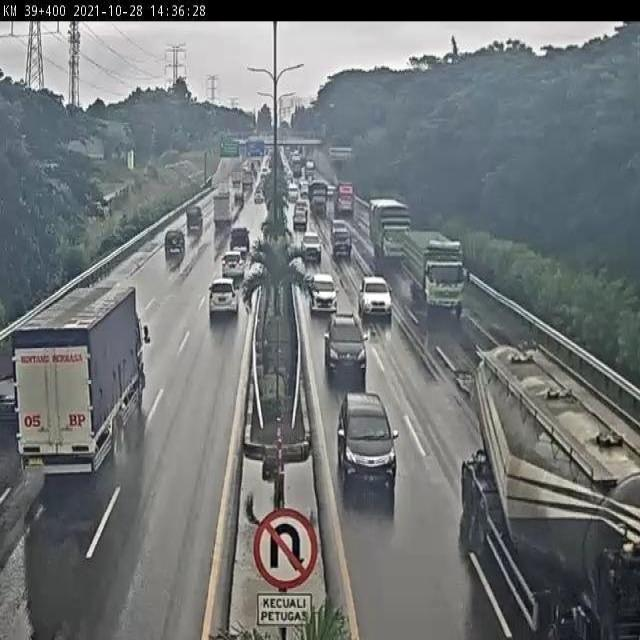Car: (336, 394, 398, 493), (323, 311, 368, 386), (358, 275, 393, 322), (307, 271, 339, 314), (208, 276, 240, 318), (221, 250, 246, 284), (332, 221, 352, 259), (301, 231, 322, 263), (229, 225, 251, 255), (165, 228, 185, 258), (186, 205, 203, 234), (293, 202, 308, 231), (286, 180, 299, 202), (300, 179, 309, 198), (306, 160, 316, 177), (327, 184, 336, 202), (254, 189, 264, 204)
Truck: (460, 345, 640, 639), (12, 281, 145, 473), (403, 230, 466, 316), (368, 198, 410, 258), (213, 190, 233, 226), (335, 184, 355, 217)
